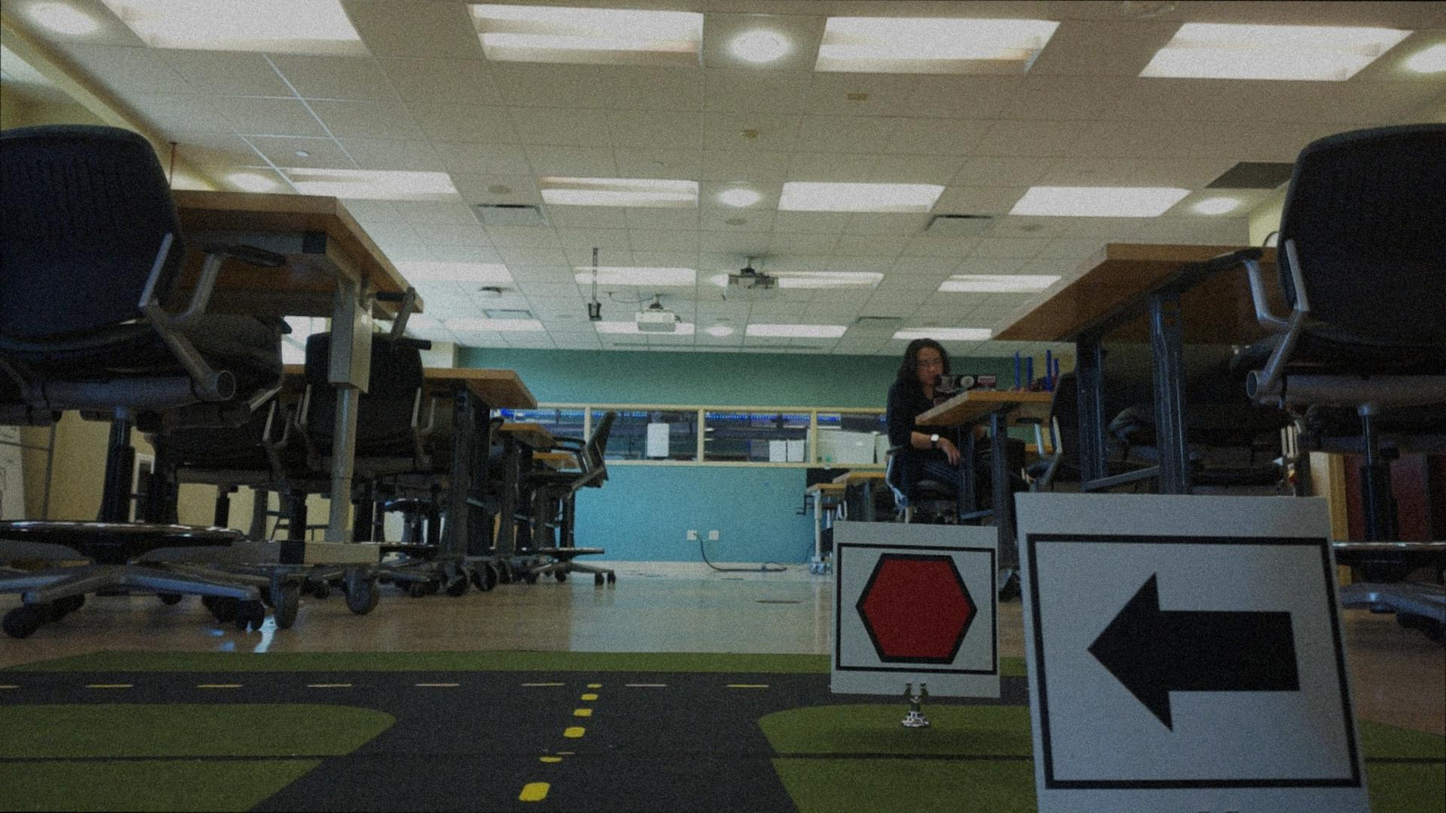stop: (833, 545, 993, 673)
turnright: (1057, 541, 1327, 784)
yellowline: (519, 690, 599, 802)
